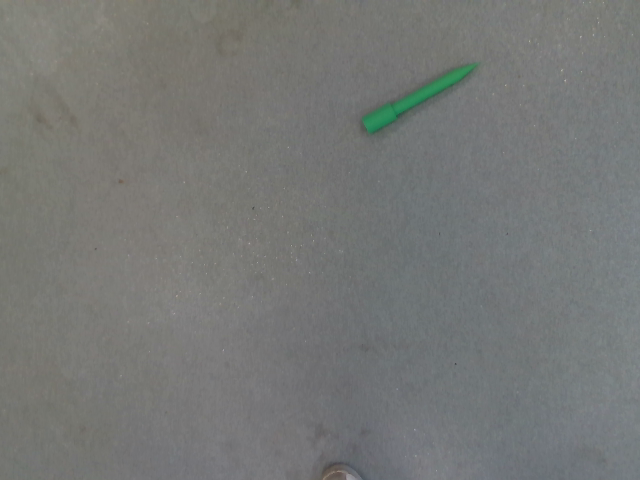Probe: (358, 55, 489, 137)
